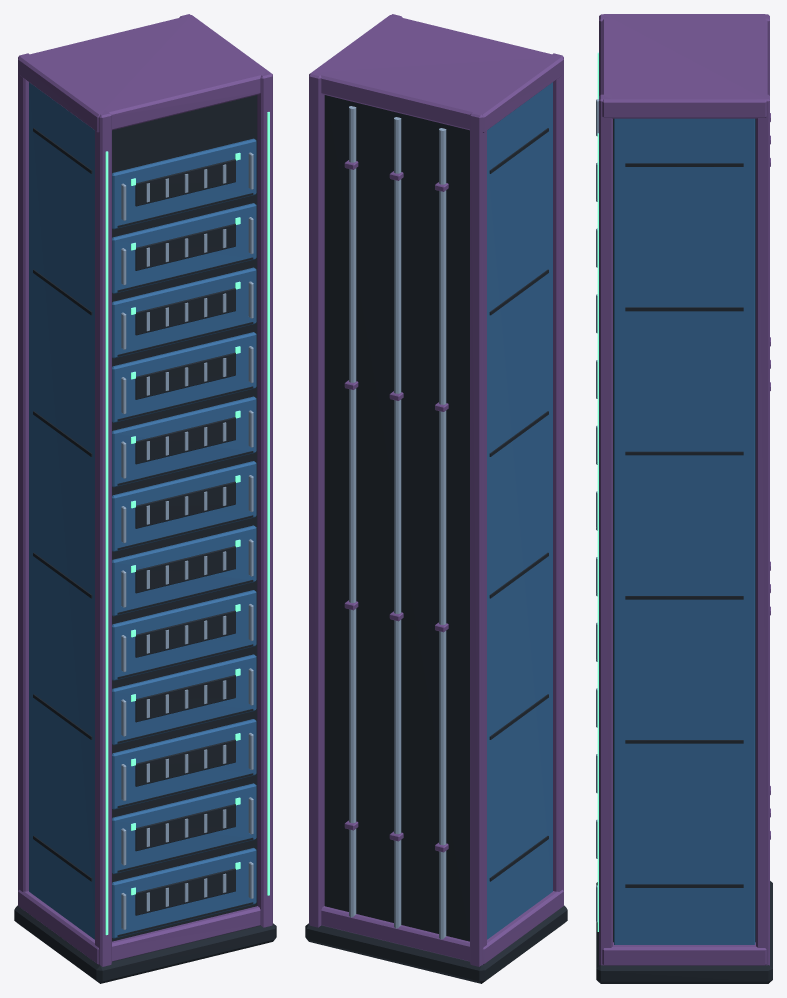
File: climb_server_landmark.glb
The picture shows the model from 3 angles, left to right: view 1: azimuth 30°, elevation 25°; view 2: azimuth 150°, elevation 25°; view 3: azimuth 270°, elevation 25°; orthographic projection.
Visible parts, largest first — view 1: climb_server_landmark; view 2: climb_server_landmark; view 3: climb_server_landmark.
Part boxes in pixels (<box>): climb_server_landmark: <box>14,14,276,983</box>; climb_server_landmark: <box>305,14,567,983</box>; climb_server_landmark: <box>596,14,772,983</box>.
Size of the model in its own units: 6 by 27.6 by 5.01.
